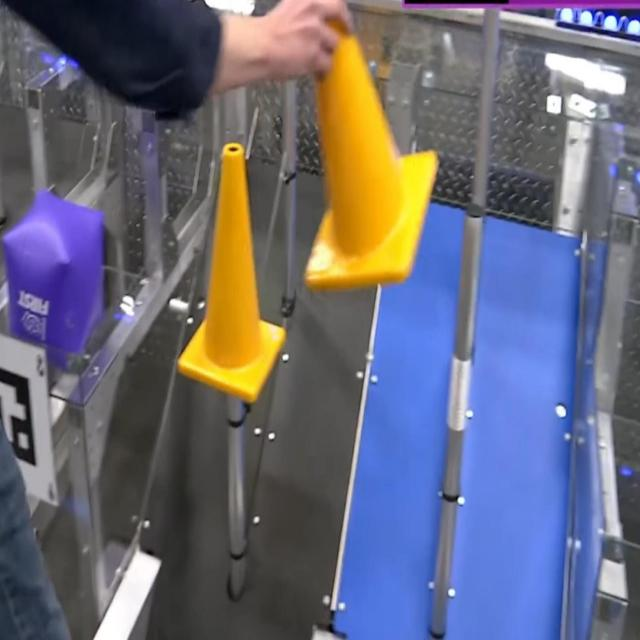frc_cone: (303, 2, 438, 290), (176, 143, 286, 405)
frc_cube: (6, 188, 110, 368)
